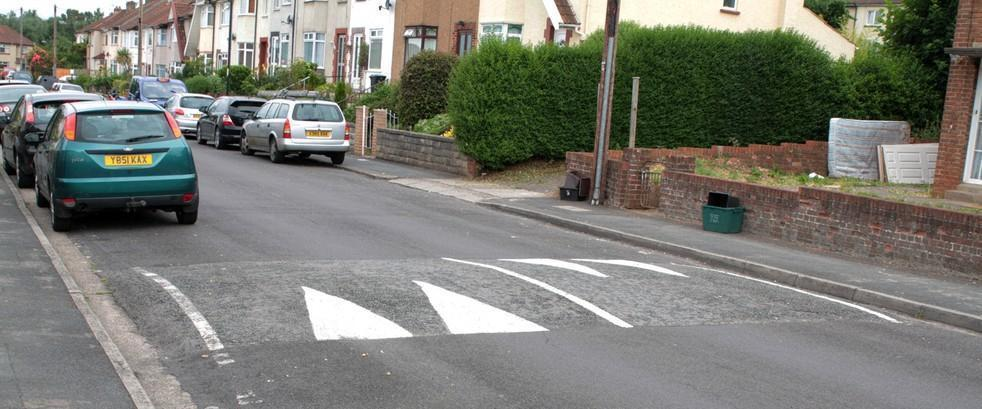speedbreaker: (116, 252, 852, 352)
